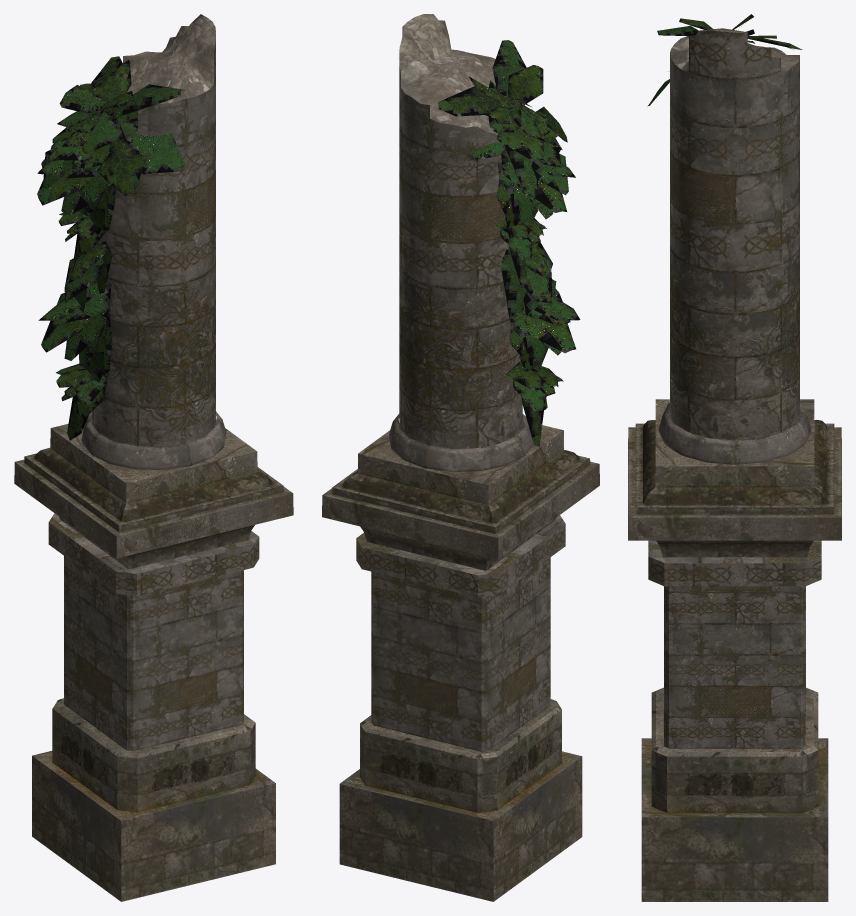
File: scotm_TELEMA_NAT_Juniper_Wall_VeryLong_c-transformed.glb
3 views of the same model, side by side, from view 1: azimuth 30°, elevation 25°; view 2: azimuth 150°, elevation 25°; view 3: azimuth 270°, elevation 25° (orthographic). The views are drawn at different scales.
Parts seen in each view (by area): view 1: default; view 2: default; view 3: default.
Boxes of the visible parts, x1=… form: default: x1=14, y1=14, x2=293, y2=901; default: x1=322, y1=14, x2=599, y2=901; default: x1=628, y1=14, x2=841, y2=901.
Bounding box in the file's own units: 2.67 × 10.13 × 2.29.
Materials: 5 (5 with a texture image).
